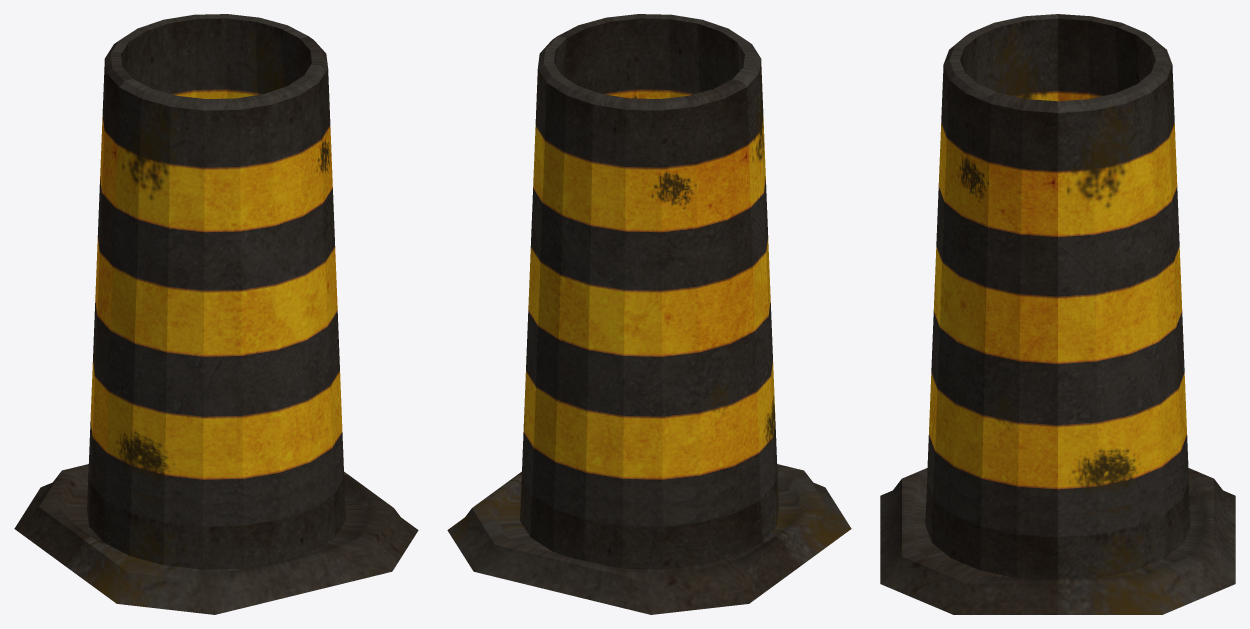
File: Big Cone.fbx
The picture shows the model from 3 angles, left to right: view 1: azimuth 30°, elevation 25°; view 2: azimuth 150°, elevation 25°; view 3: azimuth 270°, elevation 25°; orthographic projection.
Visible parts, largest first — view 1: Cone; view 2: Cone; view 3: Cone.
Part boxes in pixels (x1,y1,x2,y2): Cone: (14,14,418,614); Cone: (447,14,851,614); Cone: (880,14,1235,614).
Bounding box in the file's own units: 6.6 × 9.83 × 6.6.
Materials: 1 (1 with a texture image).
